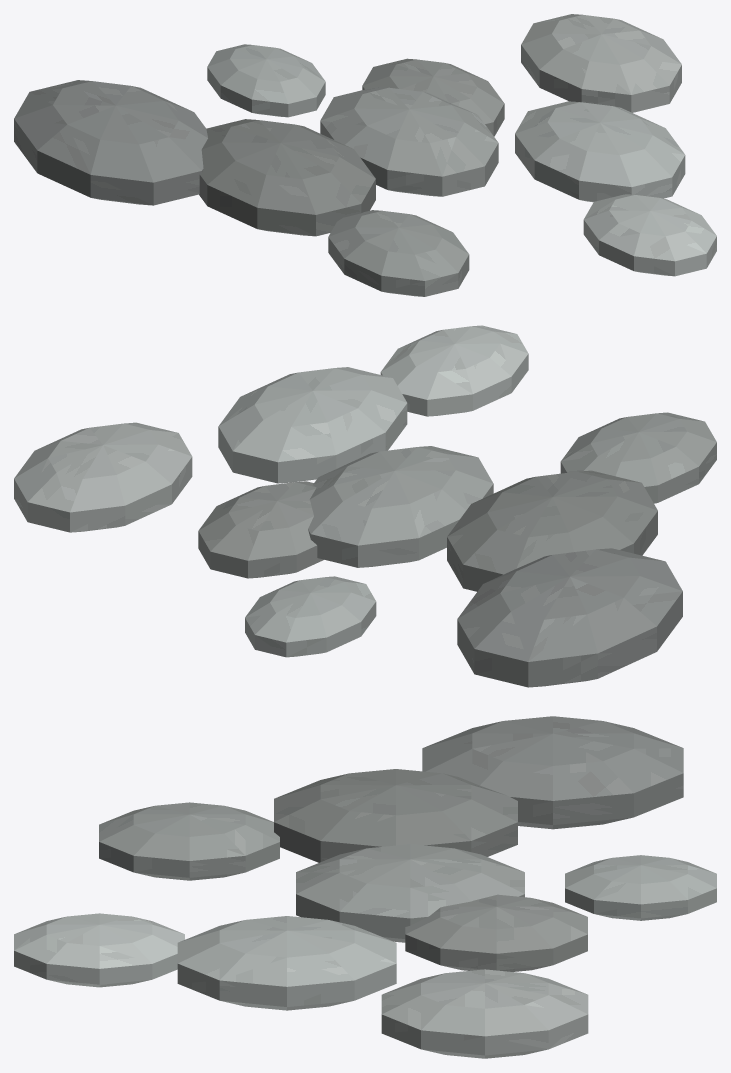
Rendered from seed_beans.glb.
3 views of the same model, one above another, from view 1: azimuth 30°, elevation 25°; view 2: azimuth 150°, elevation 25°; view 3: azimuth 270°, elevation 25° (orthographic). The views are drawn at different scales.
Visible parts, largest first — view 1: block_grain 7, block_grain 2, block_grain 0, block_grain 3, block_grain 6, block_grain 5, block_grain 8, block_grain 4, block_grain 1; view 2: block_grain 7, block_grain 0, block_grain 3, block_grain 2, block_grain 6, block_grain 8, block_grain 1, block_grain 5, block_grain 4; view 3: block_grain 7, block_grain 2, block_grain 3, block_grain 6, block_grain 0, block_grain 5, block_grain 1, block_grain 8, block_grain 4.
Boxes of the visible parts, x1,y1,x2,y2 form: block_grain 7: (14, 80, 207, 205); block_grain 2: (199, 119, 375, 236); block_grain 0: (320, 87, 498, 196); block_grain 3: (515, 101, 685, 202); block_grain 6: (521, 14, 681, 112); block_grain 5: (328, 210, 469, 296); block_grain 8: (583, 194, 716, 276); block_grain 4: (207, 44, 325, 117); block_grain 1: (362, 58, 504, 136); block_grain 7: (457, 548, 682, 687); block_grain 0: (308, 446, 493, 567); block_grain 3: (218, 367, 407, 483); block_grain 2: (447, 470, 657, 591); block_grain 6: (14, 422, 192, 532); block_grain 8: (380, 325, 528, 416); block_grain 1: (198, 481, 323, 578); block_grain 5: (560, 412, 716, 503); block_grain 4: (245, 576, 376, 657); block_grain 7: (422, 716, 683, 829); block_grain 2: (274, 769, 517, 862); block_grain 3: (177, 916, 396, 1010); block_grain 6: (381, 969, 588, 1058); block_grain 0: (296, 844, 524, 942); block_grain 5: (99, 802, 279, 880); block_grain 1: (405, 894, 587, 971); block_grain 8: (14, 913, 184, 987); block_grain 4: (565, 855, 716, 920).
Bounding box in the file's own units: 0.0645 × 0.0077 × 0.0627.
1 material, 1 textured.
